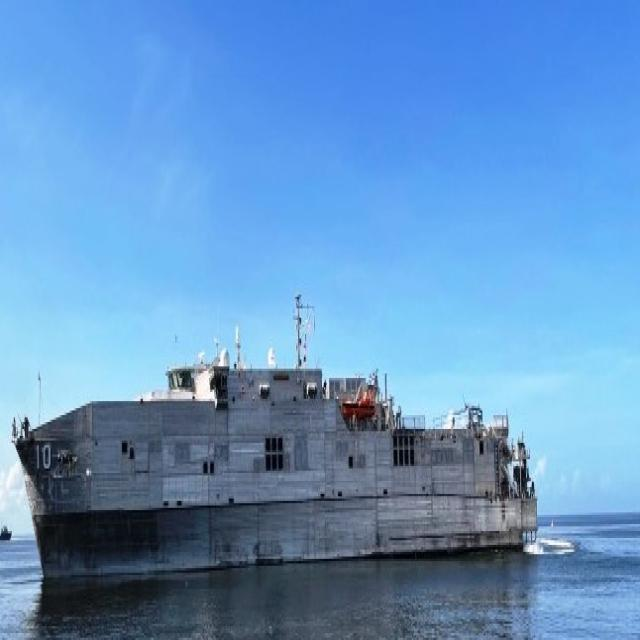cargoship: (16, 347, 526, 591)
